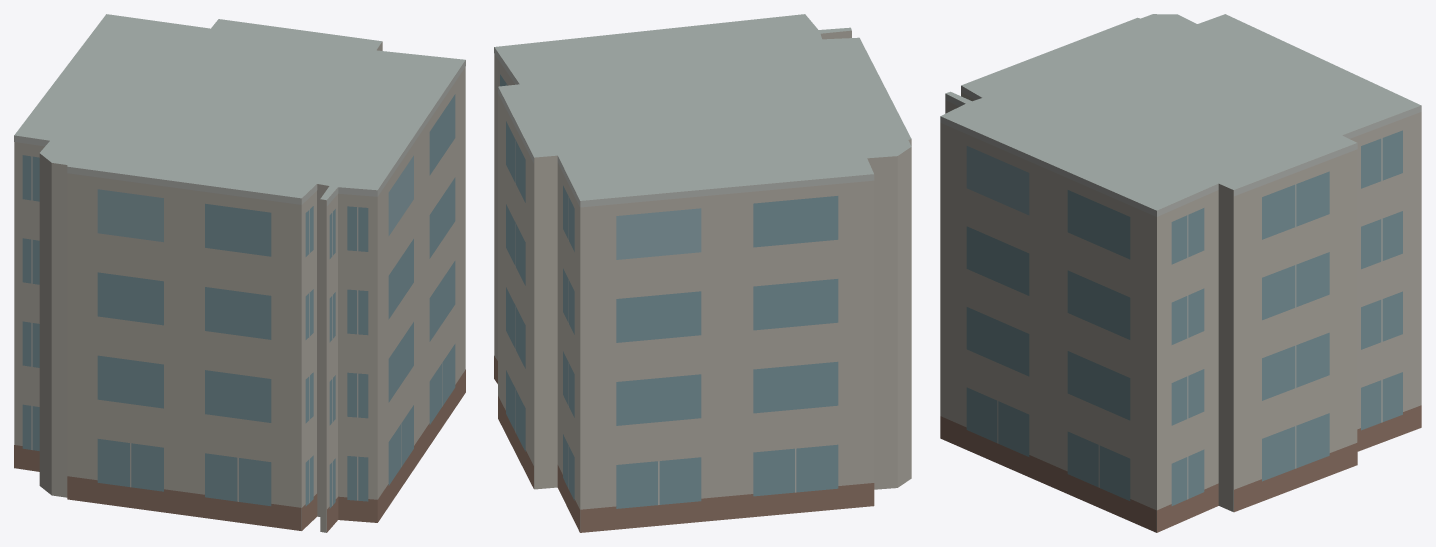
Rendered from survey-upis-32833662.glb.
3 views of the same model, side by side, from view 1: azimuth 30°, elevation 25°; view 2: azimuth 150°, elevation 25°; view 3: azimuth 270°, elevation 25° (orthographic). The views are drawn at different scales.
Visible parts, largest first — view 1: survey-upis-32833662.tmp; view 2: survey-upis-32833662.tmp; view 3: survey-upis-32833662.tmp.
Part boxes in pixels (left/top/right/bottom): survey-upis-32833662.tmp: left=14, top=14, right=465, bottom=532; survey-upis-32833662.tmp: left=494, top=14, right=911, bottom=532; survey-upis-32833662.tmp: left=940, top=14, right=1421, bottom=532.
Size of the model in its own units: 16.24 by 12.4 by 16.79.
